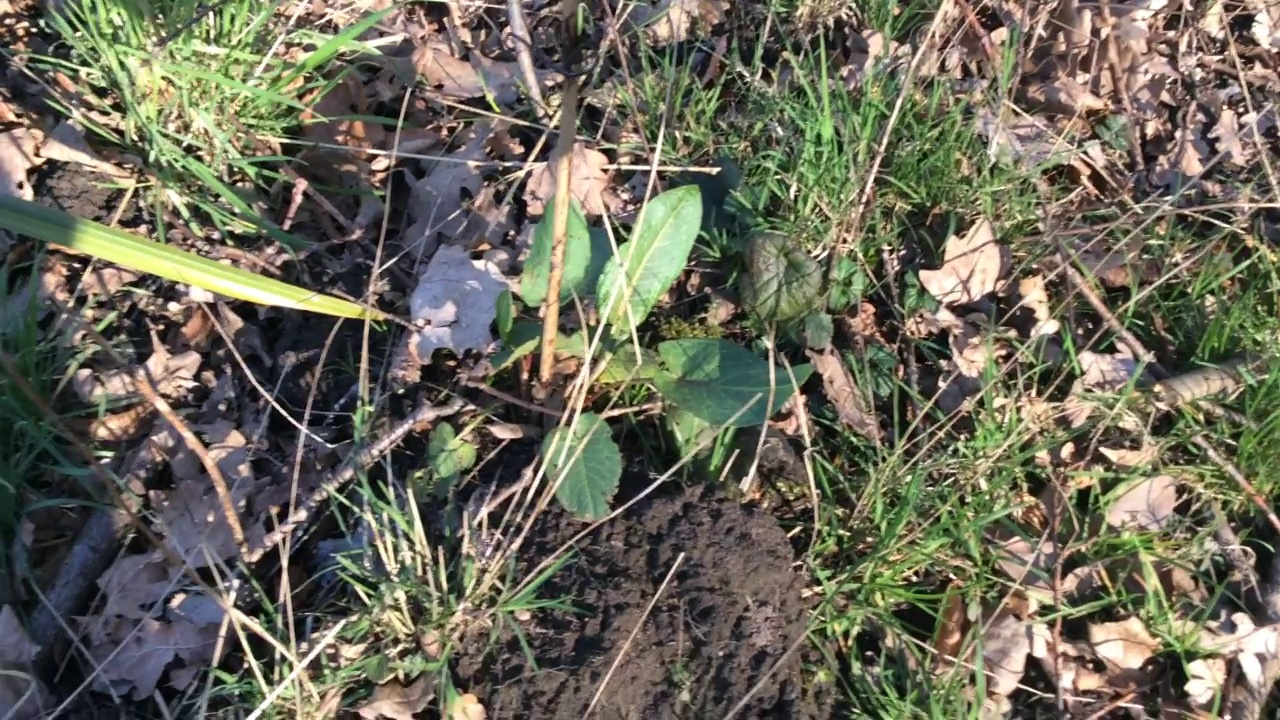rumex: (427, 184, 816, 521)
